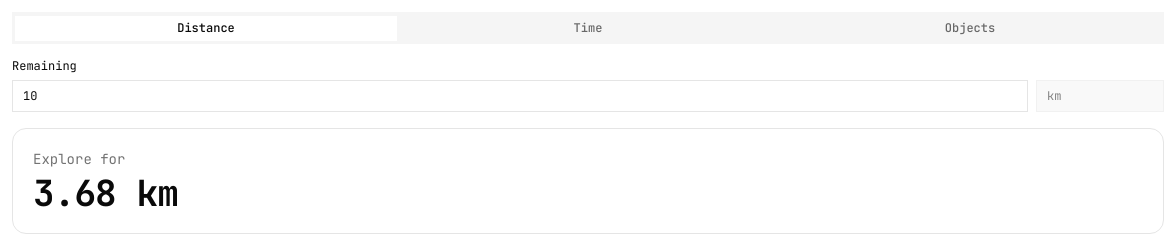
Test: StopCalculator › should show a validation error when a non-whole object count is entered
This screenshot has width=1176, height=251.
Click the tab "Objects": coordinates (970, 28) [779,16,1161,40]
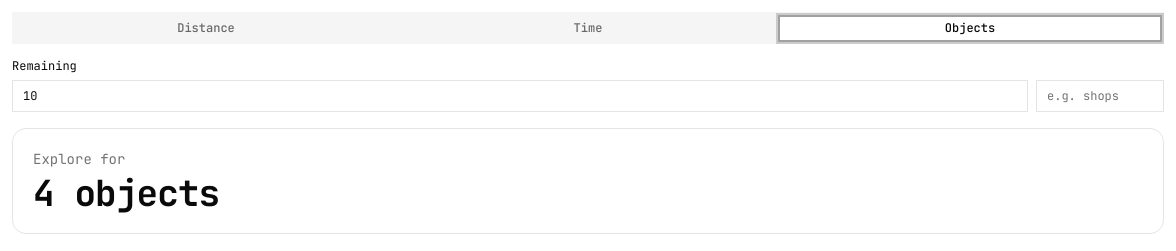
Replace the text in the number field labelled "Remaining" with "2.5": coordinates (520, 96) [12,80,1028,112]
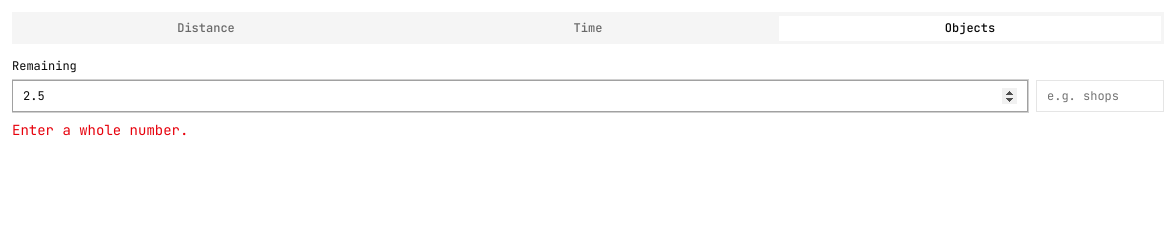
Now the message reads "Enter a whole number.", box [12,121,188,139]
